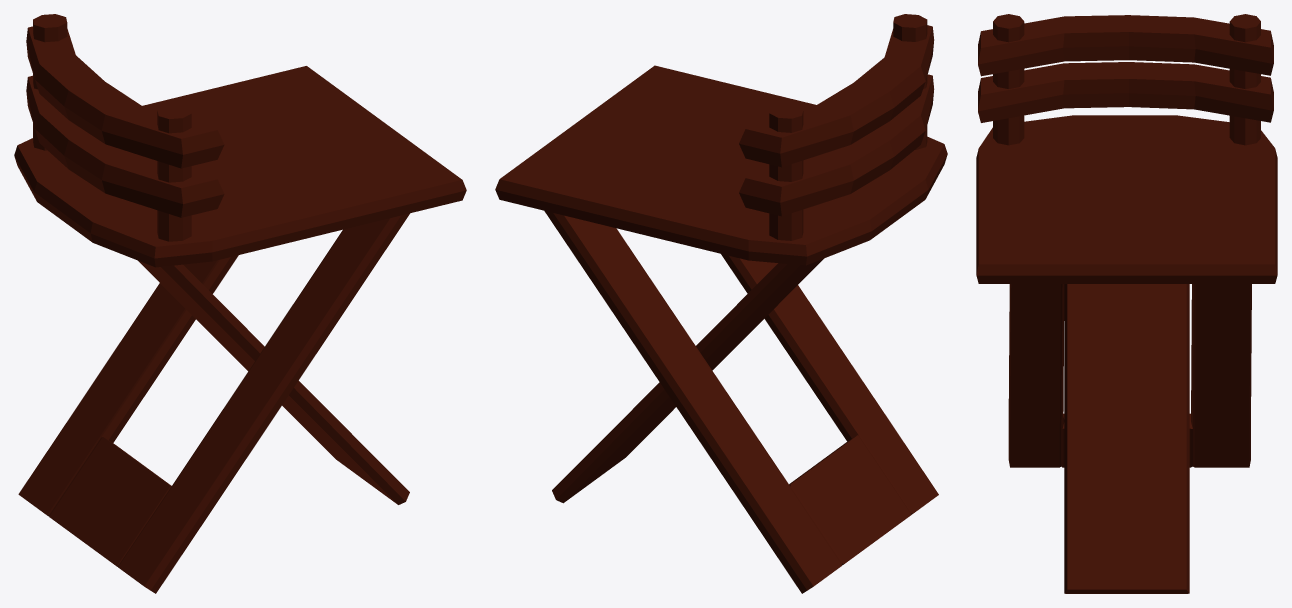
The model's file is cadeira1.glb.
3 views of the same model, side by side, from view 1: azimuth 30°, elevation 25°; view 2: azimuth 150°, elevation 25°; view 3: azimuth 270°, elevation 25° (orthographic). The views are drawn at different scales.
Parts seen in each view (by area): view 1: Cube.002, Cube, Cubo, Cubo.001, Cube.001, Cilindro.001, Cilindro; view 2: Cube.002, Cube, Cubo, Cubo.001, Cube.001, Cilindro, Cilindro.001; view 3: Cube.002, Cube.001, Cube, Cubo, Cubo.001, Cilindro.001, Cilindro.
Part boxes in pixels (box(x1,y1,x2,y2)): Cube.002: box(14, 66, 466, 267); Cube: box(18, 213, 409, 593); Cubo: box(26, 26, 224, 168); Cubo.001: box(26, 75, 224, 217); Cube.001: box(138, 260, 409, 504); Cilindro.001: box(157, 105, 191, 241); Cilindro: box(33, 14, 67, 150); Cube.002: box(495, 65, 947, 265); Cube: box(544, 210, 938, 593); Cubo: box(739, 25, 934, 167); Cubo.001: box(739, 74, 934, 216); Cube.001: box(552, 258, 823, 503); Cilindro: box(769, 105, 803, 240); Cilindro.001: box(893, 14, 927, 149); Cube.002: box(976, 115, 1277, 283); Cube.001: box(1064, 284, 1189, 593); Cube: box(1008, 284, 1251, 467); Cubo: box(978, 15, 1273, 76); Cubo.001: box(978, 62, 1273, 122); Cilindro.001: box(993, 14, 1024, 145); Cilindro: box(1229, 14, 1260, 145).
Bounding box in the file's own units: 10.19 × 14.26 × 8.56.
